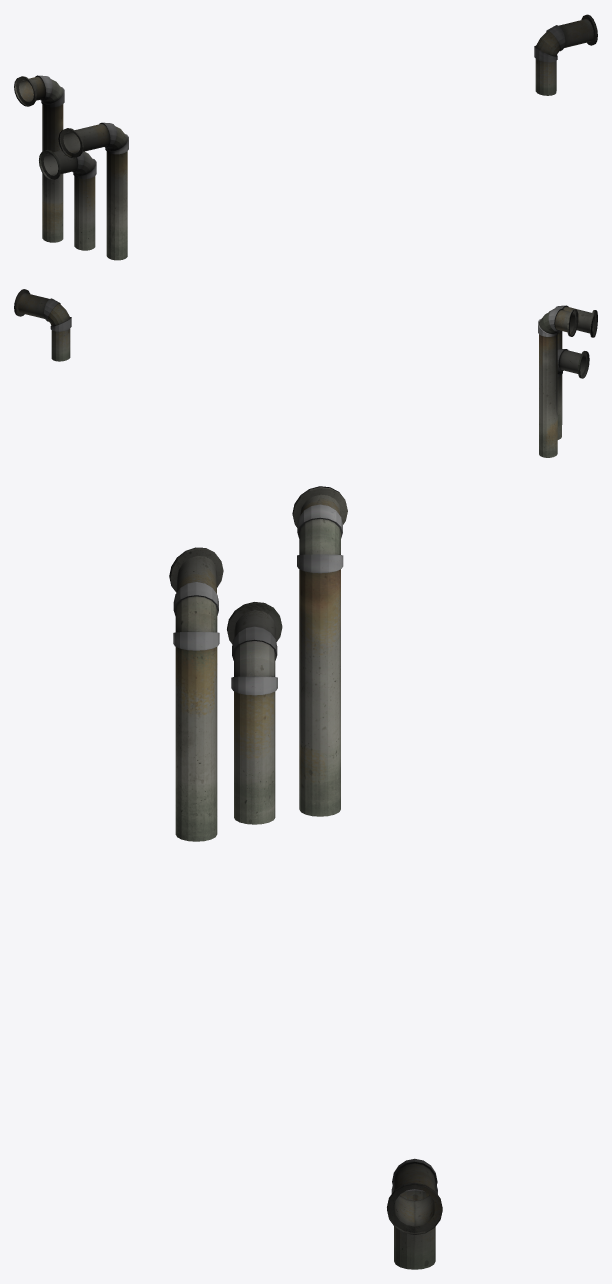
Rendered from pipesEnclosed.fbx.
The picture shows the model from 3 angles, top to bottom: view 1: azimuth 30°, elevation 25°; view 2: azimuth 150°, elevation 25°; view 3: azimuth 270°, elevation 25°; orthographic projection. The views are drawn at different scales.
Visible parts, largest first — view 1: pipes_Enclosed; view 2: pipes_Enclosed; view 3: pipes_Enclosed.
Boxes of the visible parts, x1=… form: pipes_Enclosed: x1=14, y1=14, x2=597, y2=260; pipes_Enclosed: x1=14, y1=289, x2=597, y2=457; pipes_Enclosed: x1=169, y1=486, x2=442, y2=1269.
Size of the model in its own units: 16951 by 4554 by 3777.
